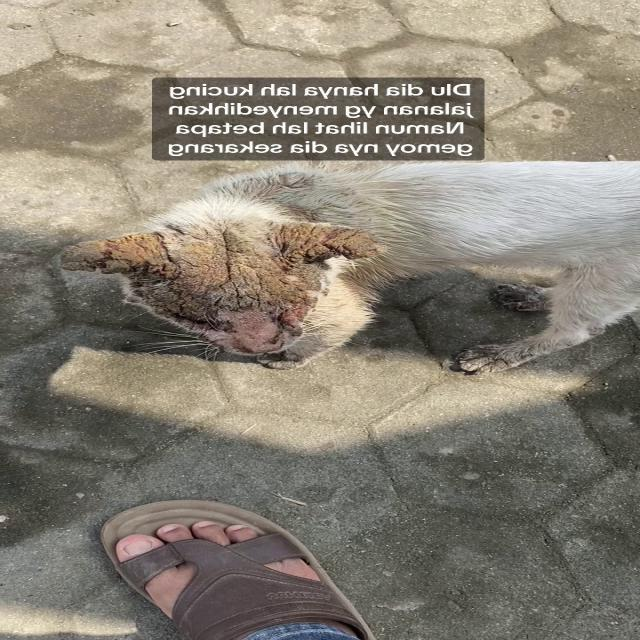ghe: (269, 214, 392, 275), (72, 238, 195, 297), (199, 214, 266, 300)
